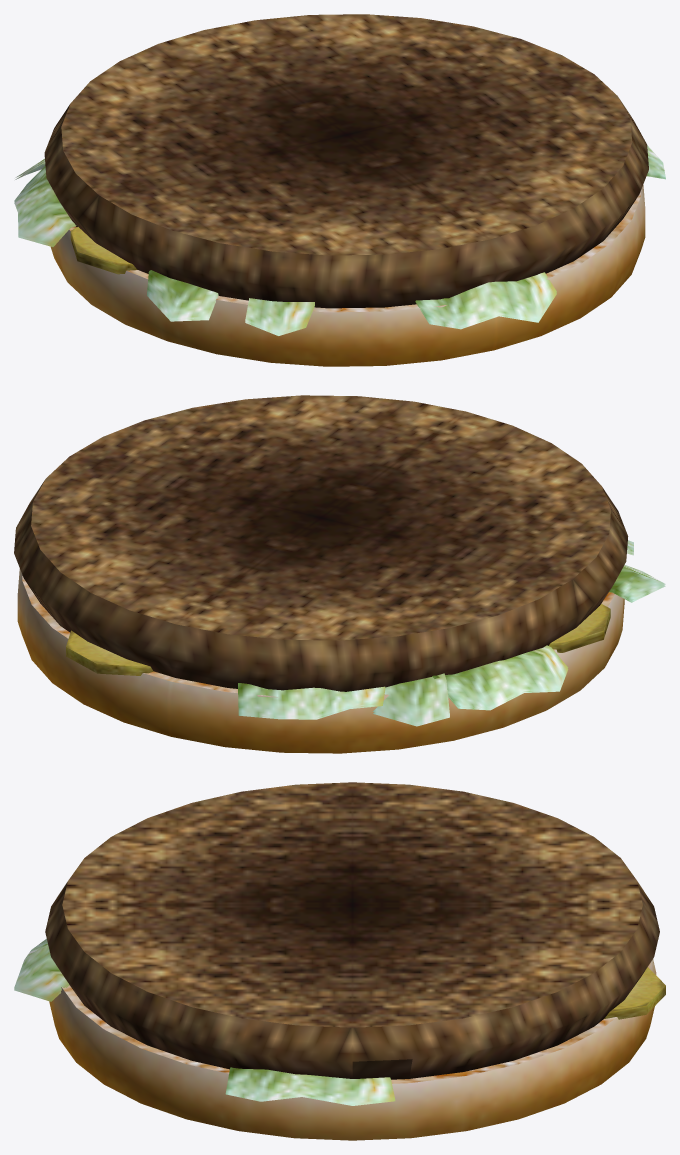
File: big.obj
3 views of the same model, one above another, from view 1: azimuth 30°, elevation 25°; view 2: azimuth 150°, elevation 25°; view 3: azimuth 270°, elevation 25° (orthographic).
Visible parts, largest first — view 1: polygon0; view 2: polygon0; view 3: polygon0.
Boxes of the visible parts, x1,y1,x2,y2 form: polygon0: [14, 14, 665, 366]; polygon0: [14, 395, 665, 753]; polygon0: [14, 782, 665, 1140].
Size of the model in its own units: 3.65 by 0.6729 by 3.64.
Materials: 1 (1 with a texture image).
